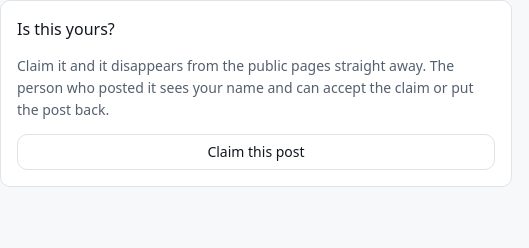
ContentClaimPanel › opens the form, sends the claim, and points at My claims
This screenshot has width=529, height=248.
Click the button "Claim this post": (256,152) [17, 134, 495, 170]
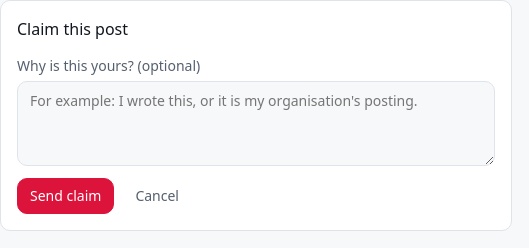
Replace the text in the text box labelled "Why is this yours? (optional)" with "  Mine  ": (256,124) [17, 81, 495, 166]
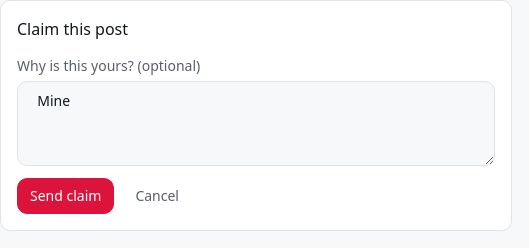
Click the button "Send claim": (66,196) [17, 178, 114, 214]
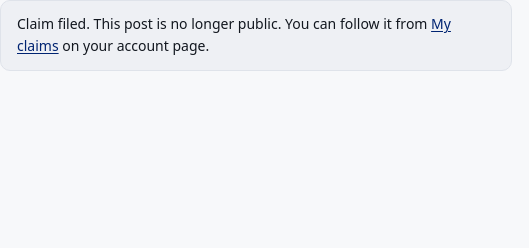
expect the text "Claim filed" is shown: met, box [17, 14, 427, 33]
expect the link "My claims" is shown: met, box [17, 14, 451, 55]
